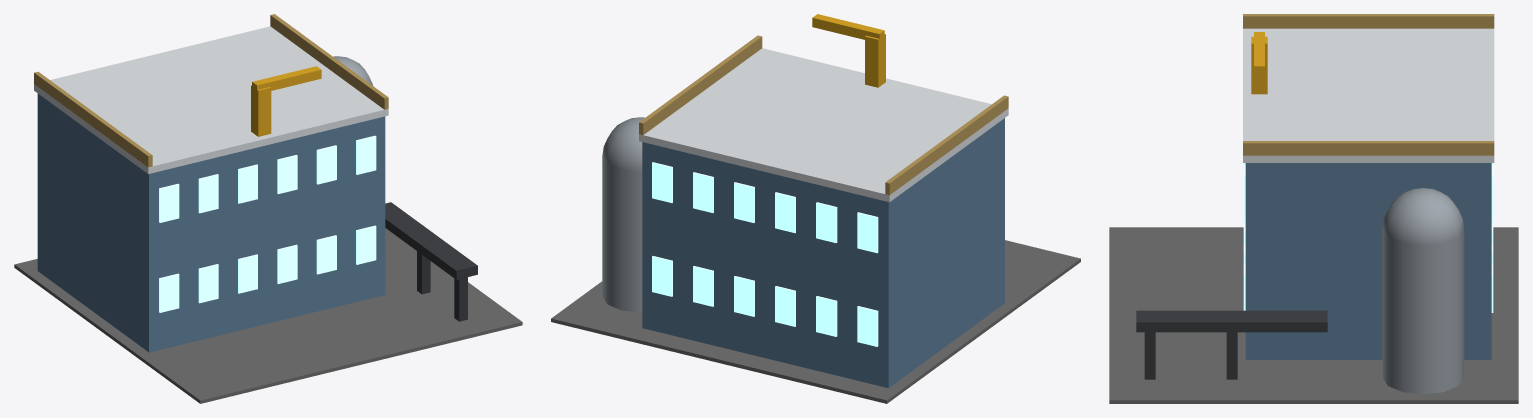
File: bld_special_factory_a10.glb
3 renders of one model, left to right at view 1: azimuth 30°, elevation 25°; view 2: azimuth 150°, elevation 25°; view 3: azimuth 270°, elevation 25°, orthographic. The views are drawn at different scales.
Parts seen in each view (by area): view 1: body, arm; view 2: body, arm; view 3: body, arm.
Boxes of the visible parts, x1,y1,x2,y2 form: body: (14,14,522,403); arm: (251,66,321,136); body: (551,35,1080,403); arm: (812,14,885,87); body: (1109,14,1518,403); arm: (1251,32,1267,94).
Size of what is drawn, in the model's own units: 15 by 10.7 by 15.
